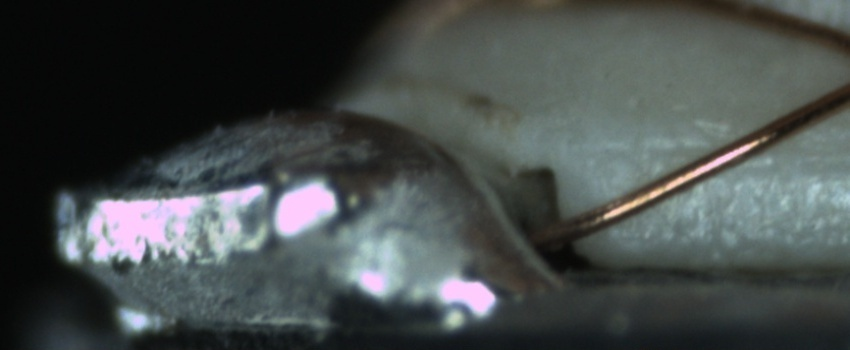DL: (610, 114, 847, 190)
